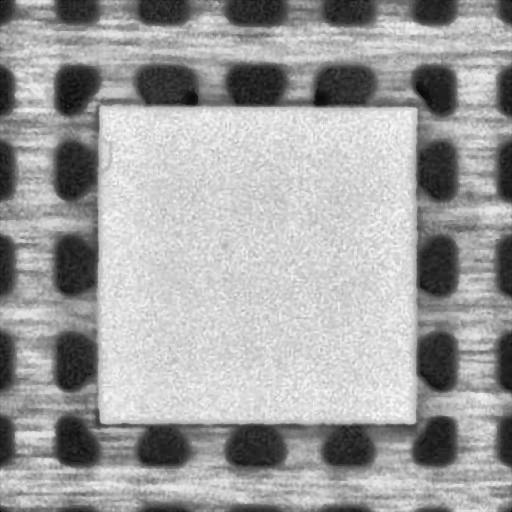DIE_CRACK: (96, 134, 115, 177)
